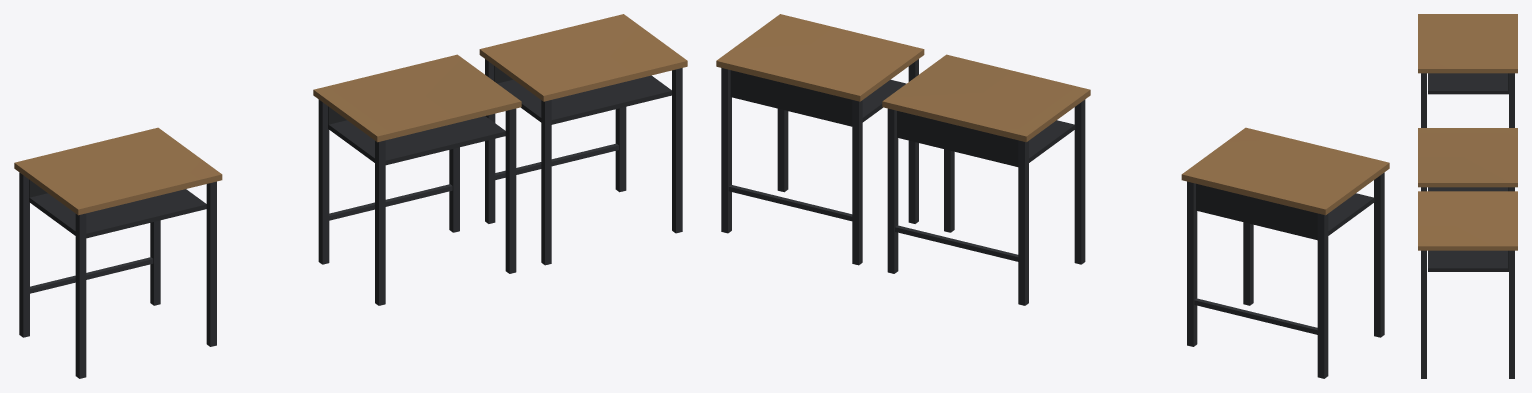
The model's file is table.school_desks_three_right.empty.glb.
3 renders of one model, left to right at view 1: azimuth 30°, elevation 25°; view 2: azimuth 150°, elevation 25°; view 3: azimuth 270°, elevation 25°, orthographic. The views are drawn at different scales.
Visible parts, largest first — view 1: table_school_desks_three_right_empty; view 2: table_school_desks_three_right_empty; view 3: table_school_desks_three_right_empty.
Part boxes in pixels (x1,y1,x2,y2): table_school_desks_three_right_empty: [14, 14, 687, 378]; table_school_desks_three_right_empty: [716, 14, 1389, 378]; table_school_desks_three_right_empty: [1418, 14, 1517, 378].
Size of what is drawn, in the model's own units: 2.75 by 0.74 by 0.5.
